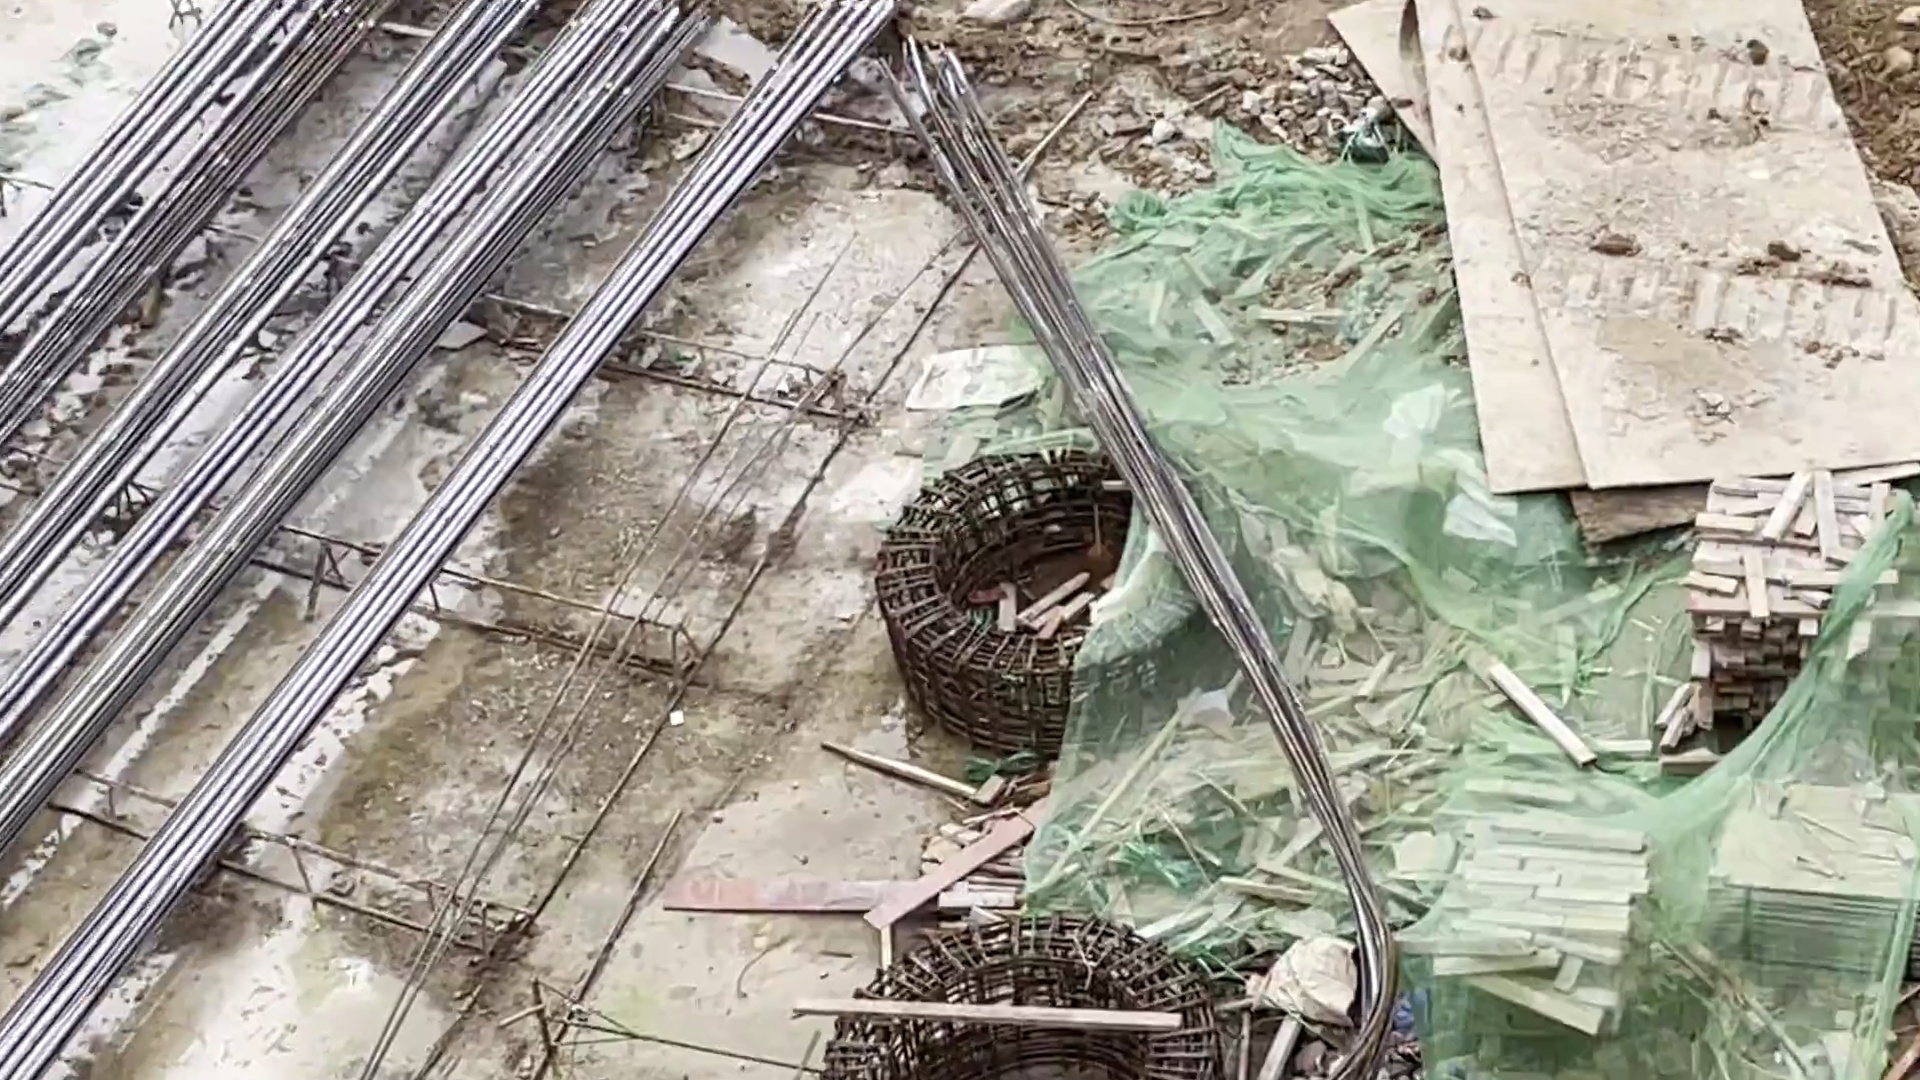rebar: (1, 1, 893, 1075), (902, 37, 1391, 1080)
wood: (1453, 810, 1647, 1022), (1687, 468, 1851, 711)
